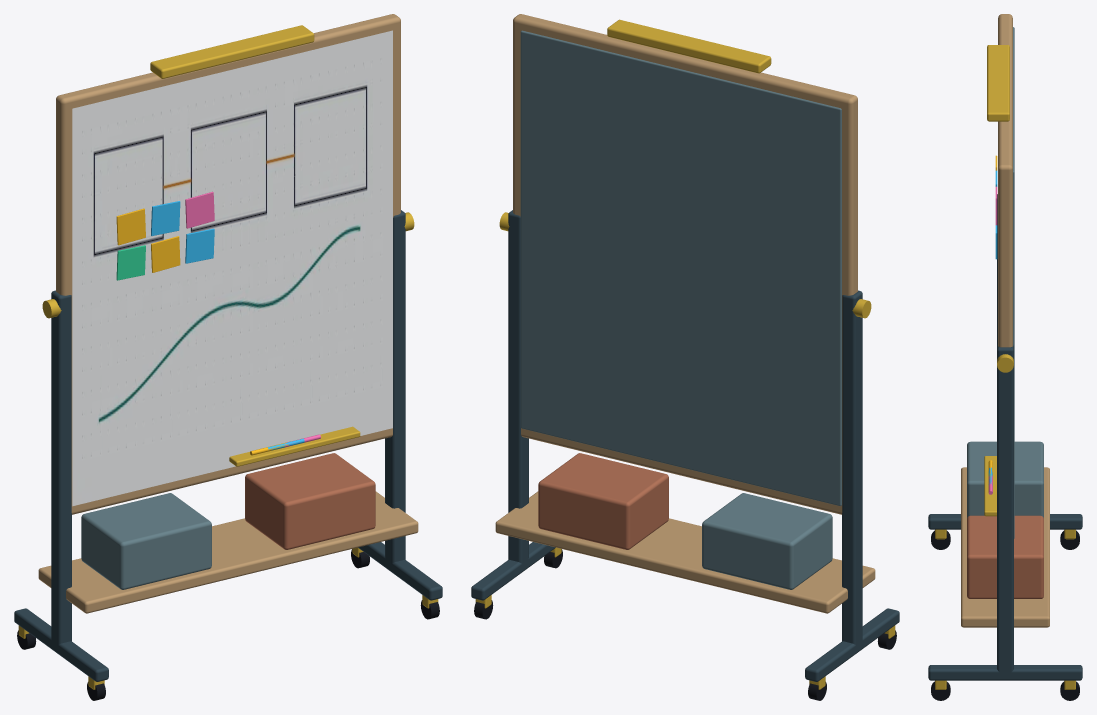
The model's file is campus-board-compact-terracotta.glb.
3 renders of one model, left to right at view 1: azimuth 30°, elevation 25°; view 2: azimuth 150°, elevation 25°; view 3: azimuth 270°, elevation 25°, orthographic. The views are drawn at different scales.
Bounding box in the file's own units: 1.11 × 1.72 × 0.44.
14 materials, 1 textured.
